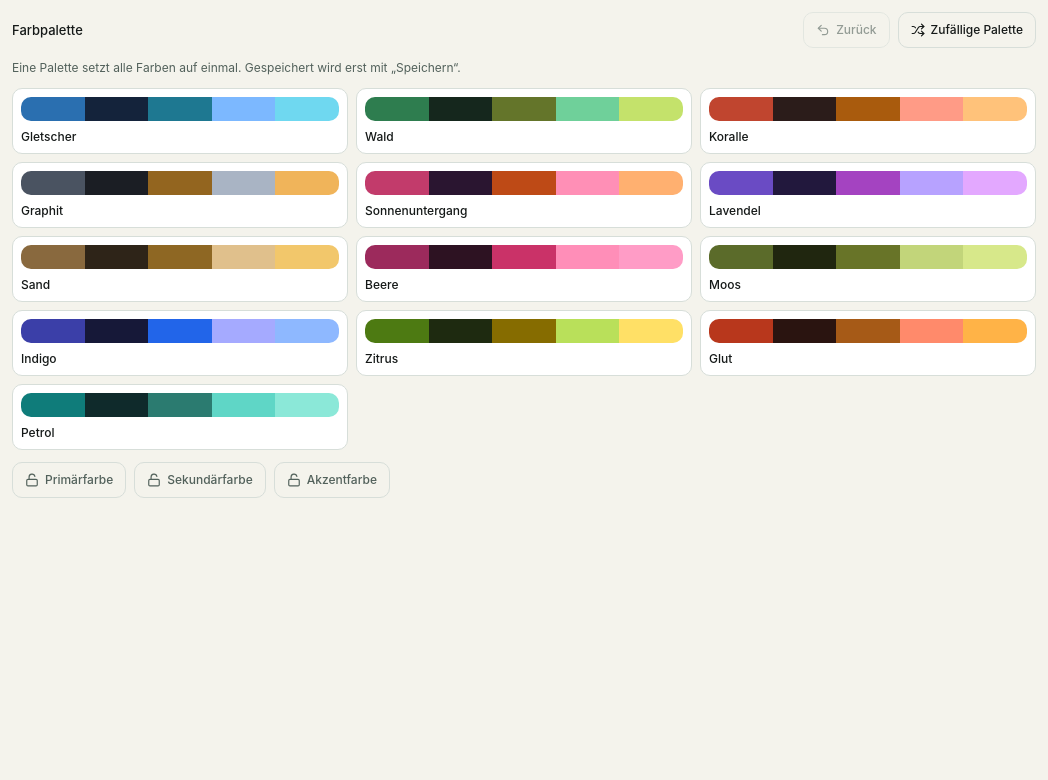
Scenario: PalettePicker › shows the no-result notice and writes nothing when the locks cannot be kept
Click the button with test id "admin-palette-lock-accent".
click(332, 480)  # box [274,462,390,498]
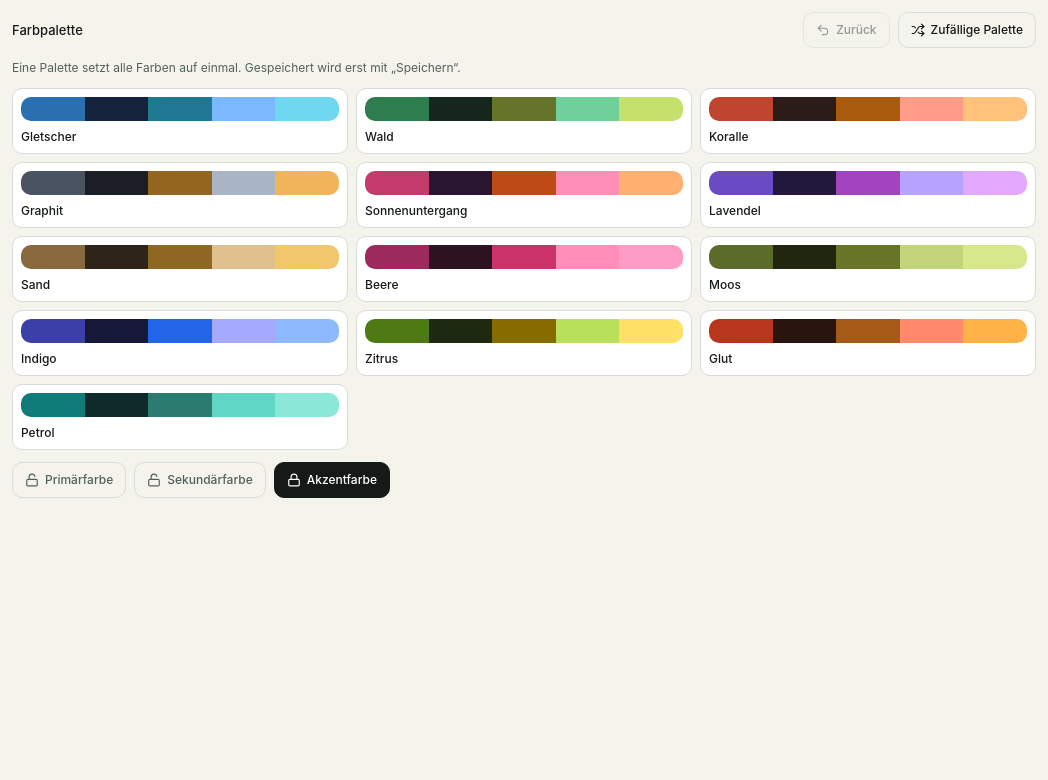
Click the button with test id "admin-palette-shuffle".
click(967, 30)  # box [898,12,1036,48]
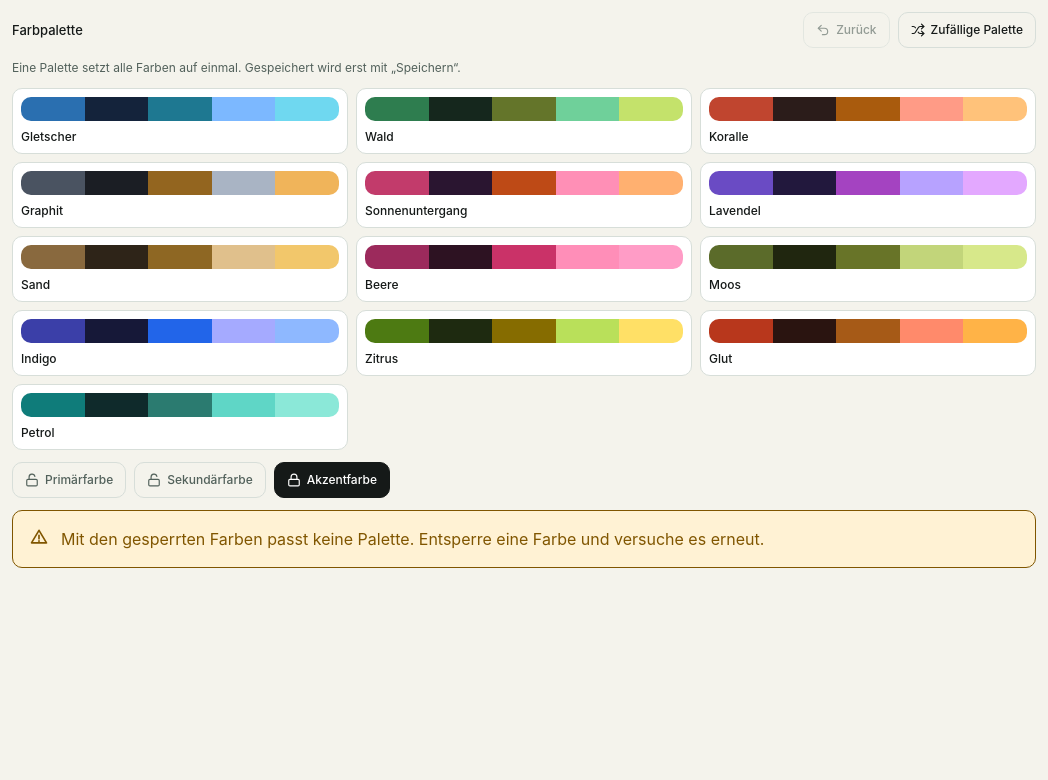
Now the message with test id "admin-palette-notice" is shown, box [12,510,1036,568]
